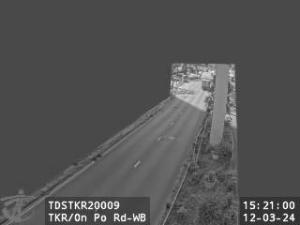truck: (202, 79, 210, 91)
